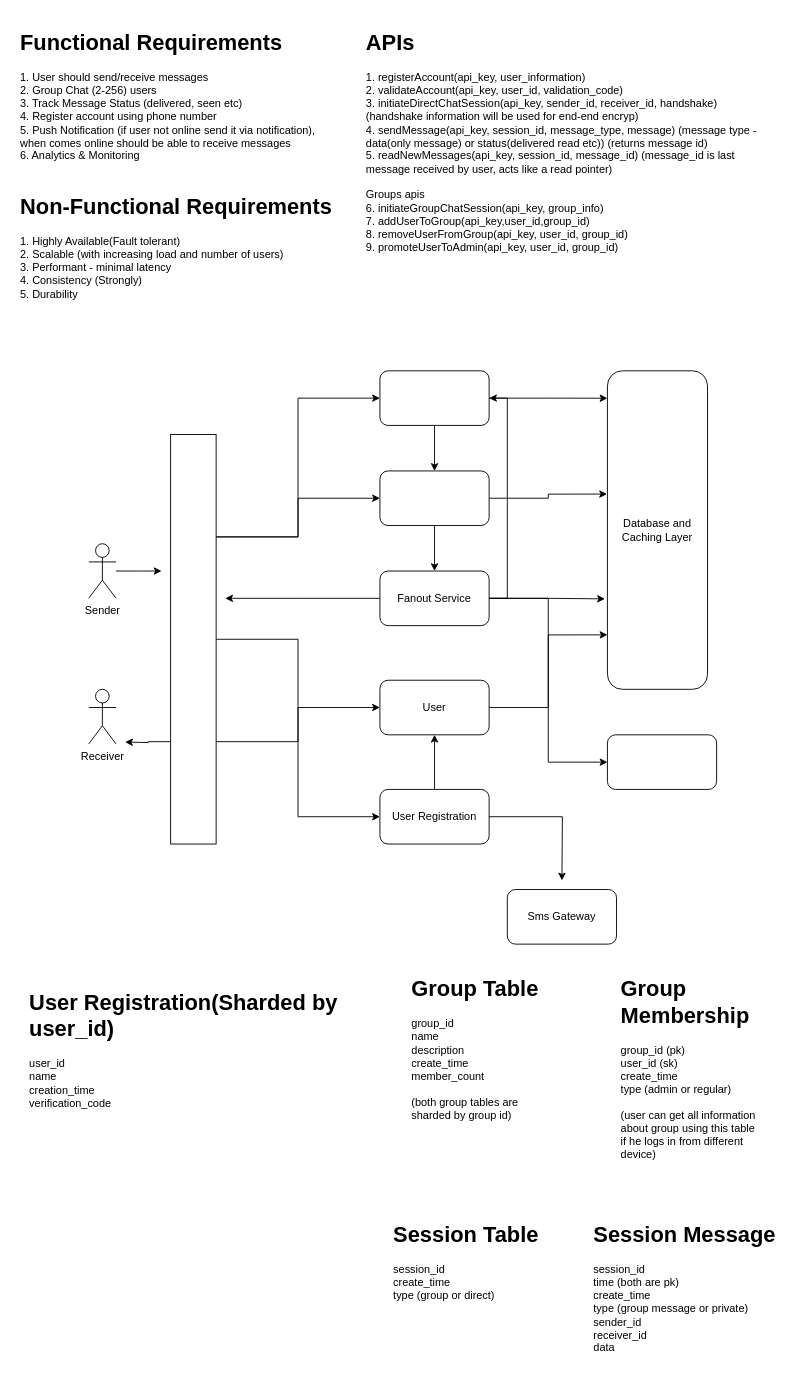
Some shapes in this 795 by 1378 pixel diagram are drawn without their labels. Each missing label, with the centre of its shape:
"Chat Sessions Service" goes at [434,498].
"Group Service" goes at [434,397].
"Push Notification" goes at [662,761].
"Routing Service" goes at [193,639].
